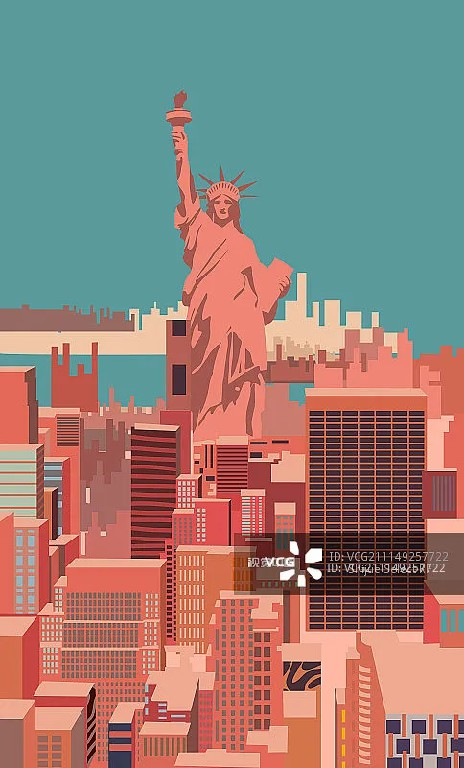SL: (165, 89, 291, 439)
